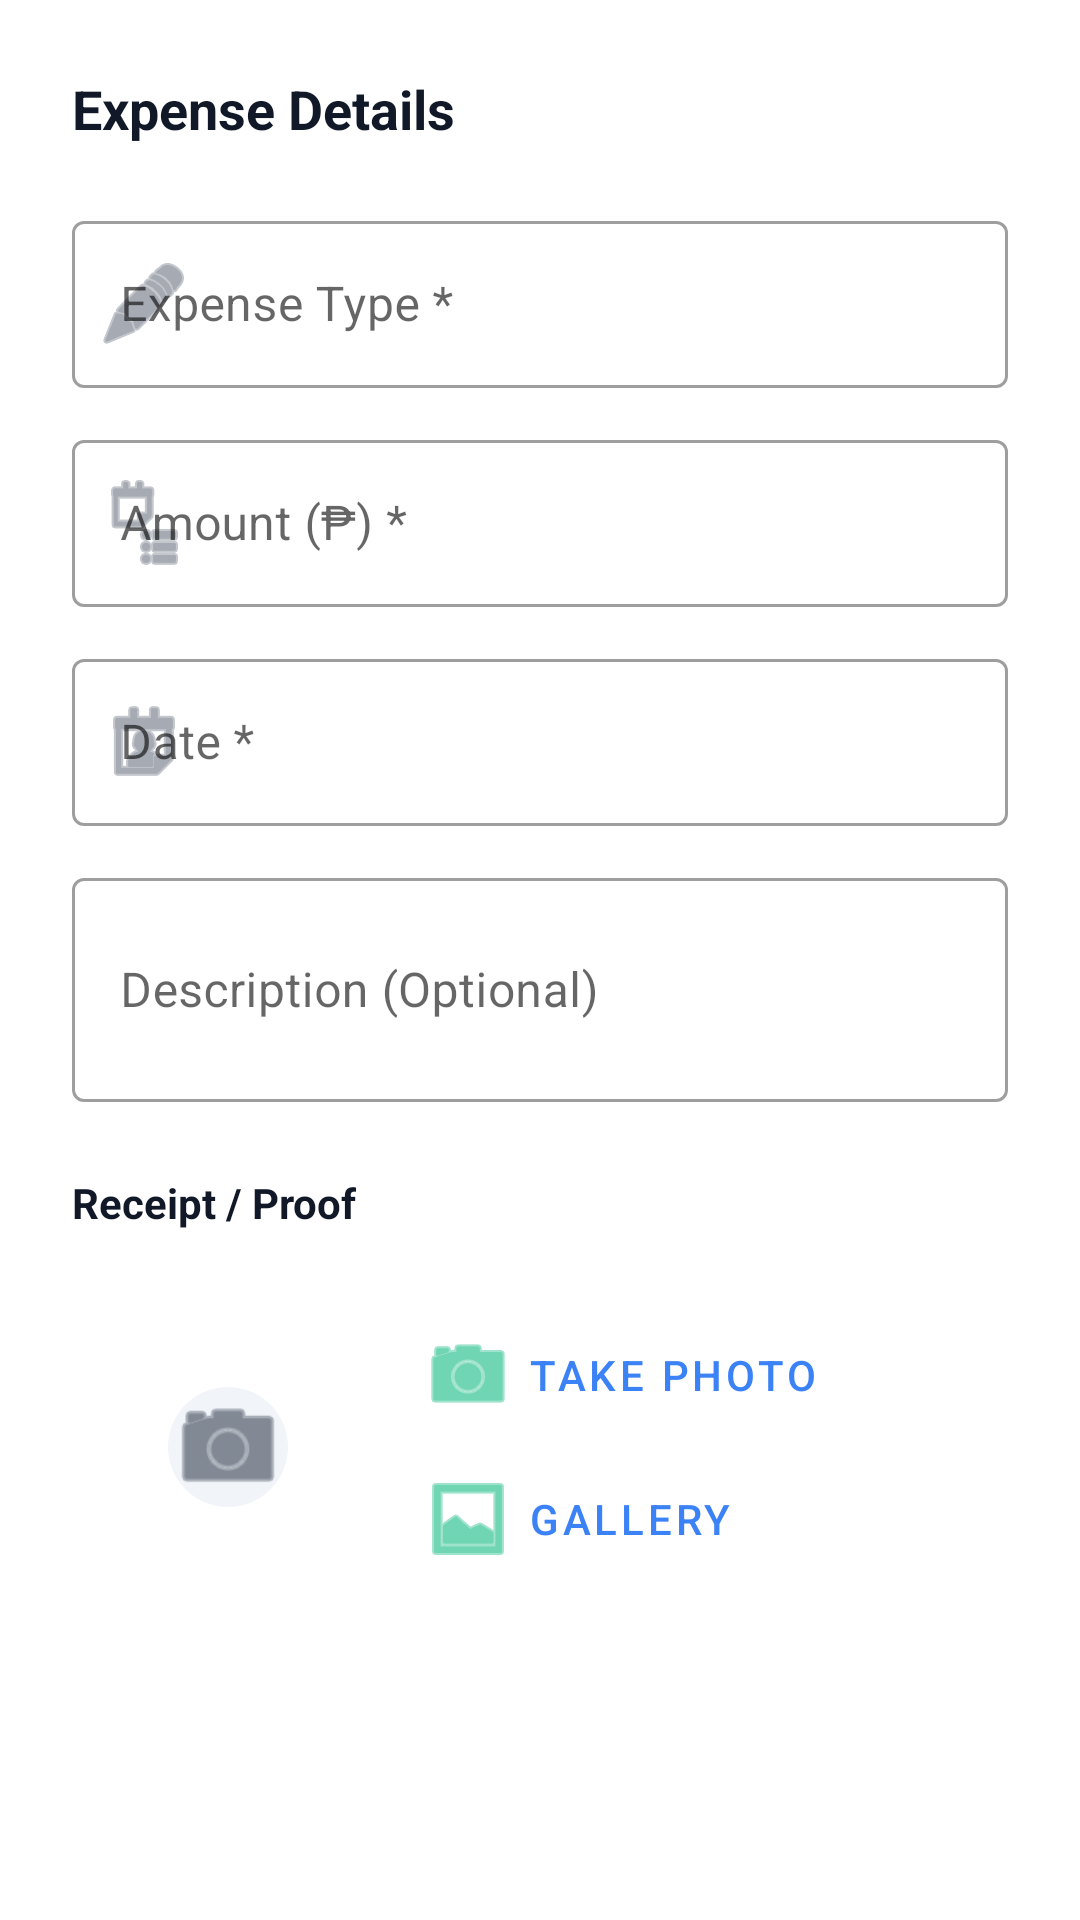

Icons on this 1080 x 1920 Android screen, each with its box as (x1, y1, x2, y2):
camera: (181, 1408, 275, 1482)
